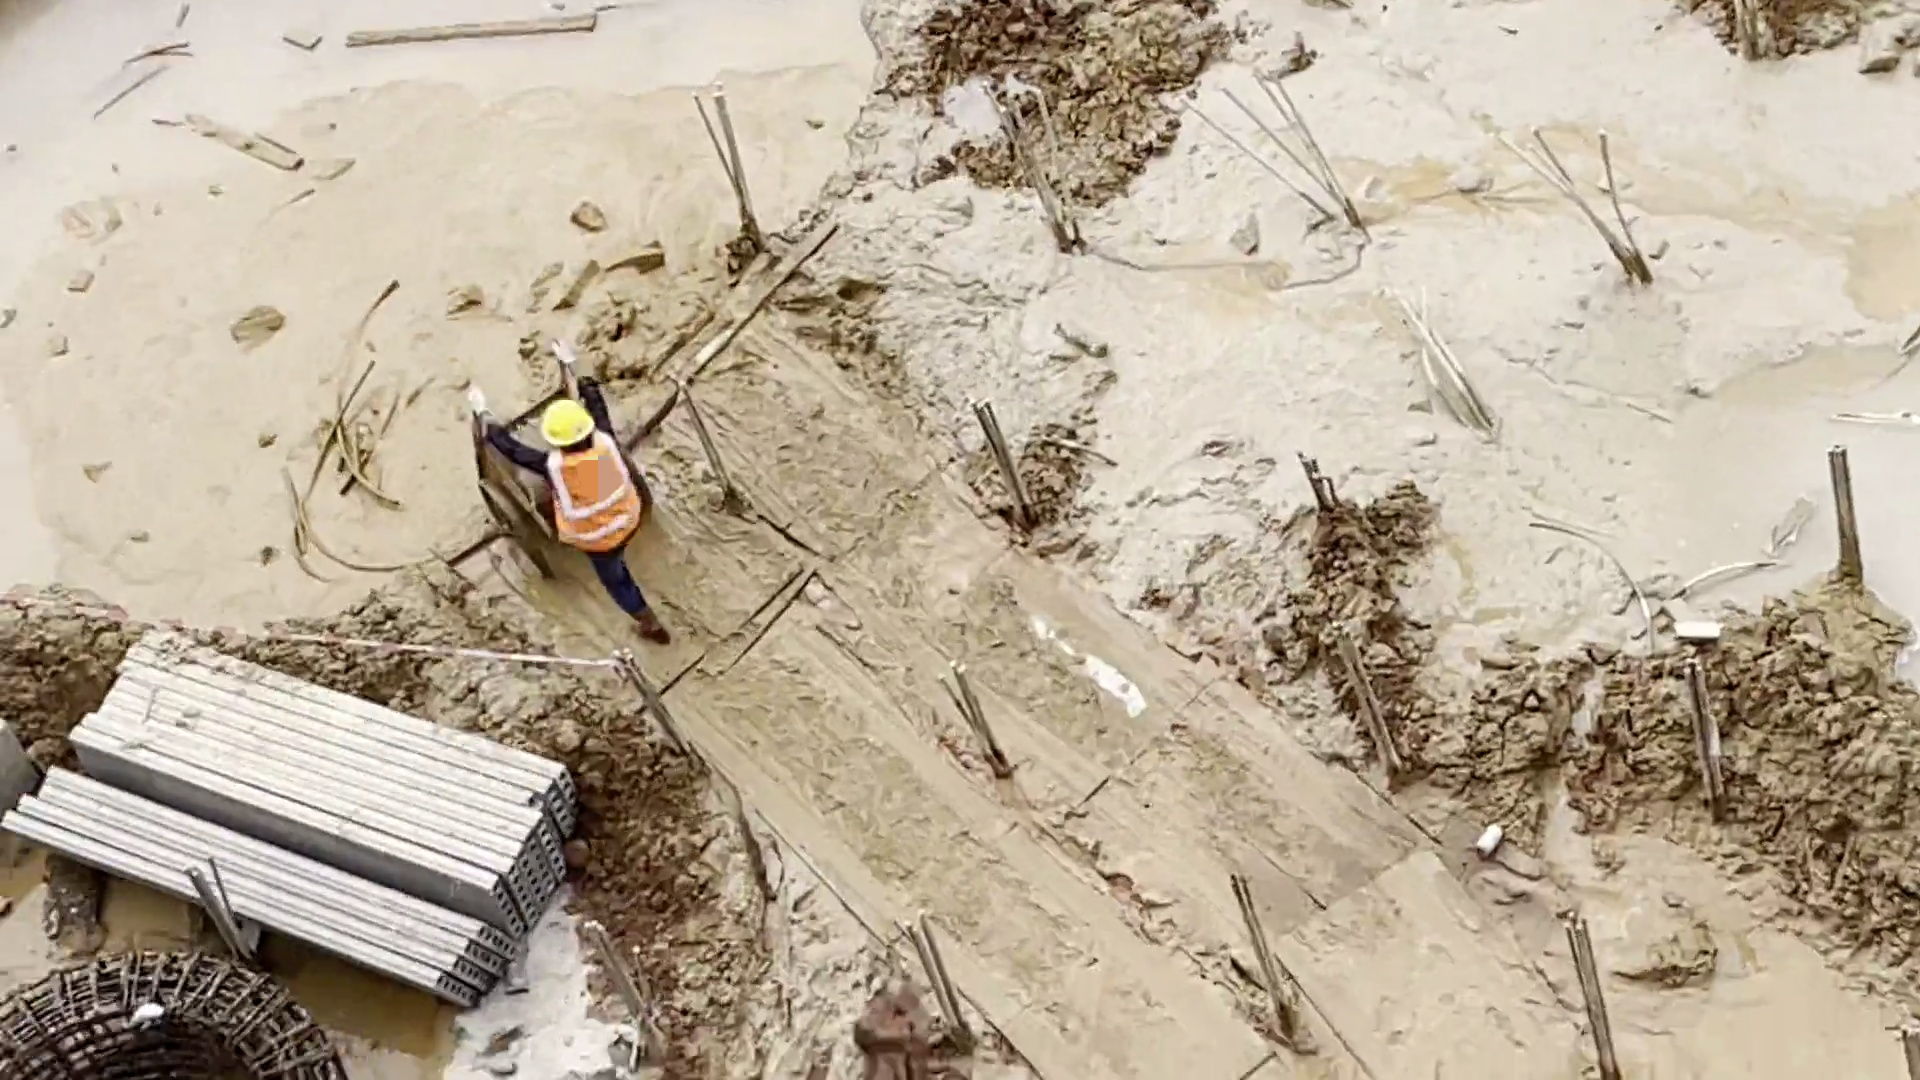helmet: (529, 403, 613, 451)
person: (462, 387, 702, 649)
vest: (524, 458, 651, 564)
